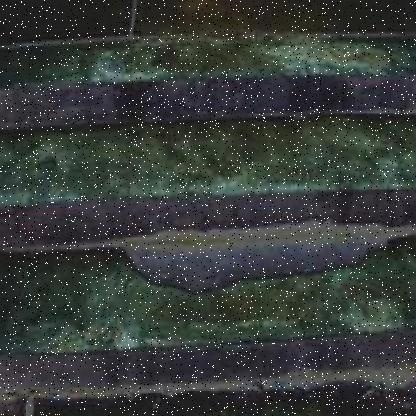stair_up: (65, 201, 307, 416)
